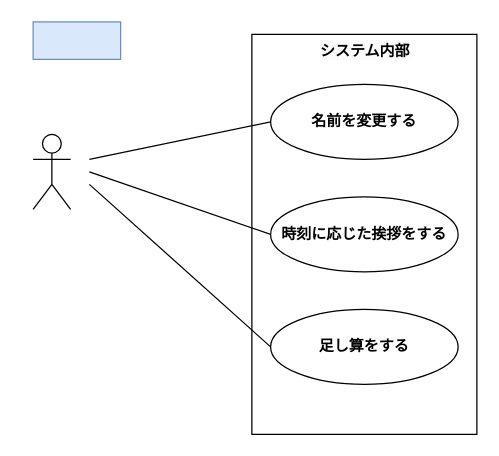
Some shapes in this 499 by 456 pixel diagram are drawn without their labels. Each missing label, with the centre of its shape:
RoboDog: the point at 76,40
ユーザー: the point at 51,171
